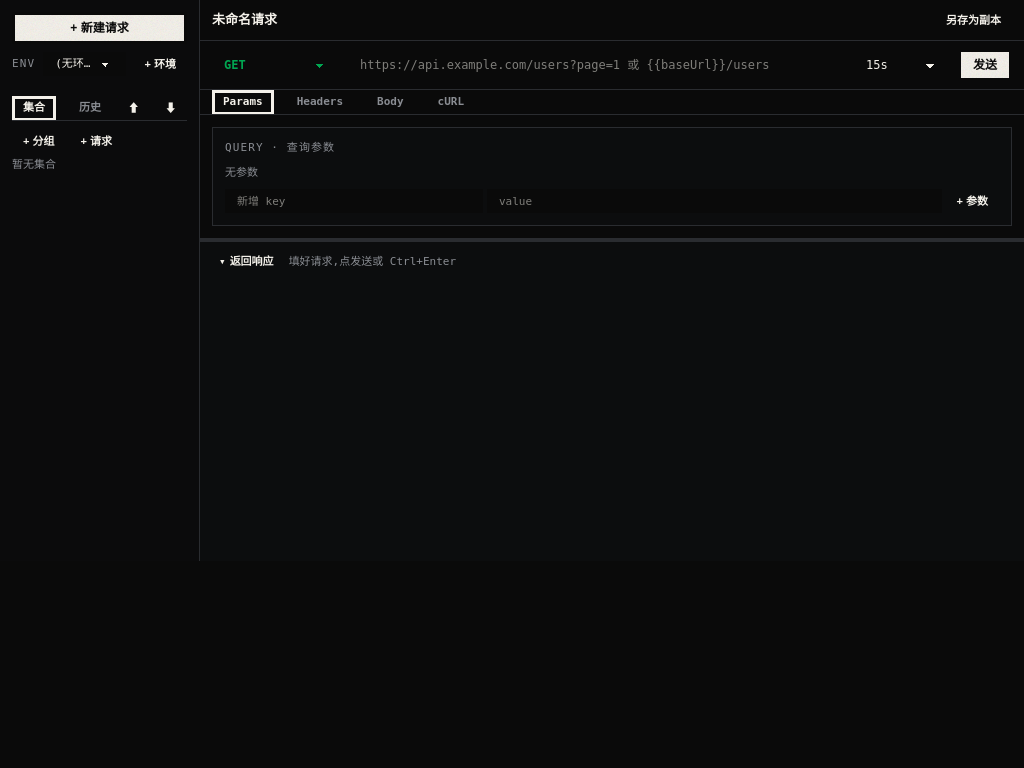
Test: 请求区页签 › 切到 cURL:粘贴框与「导出 cURL」「解析导入」都在该页签内
Click the tab with test id "request-tab-curl": {"x": 451, "y": 102} [427,90,475,114]
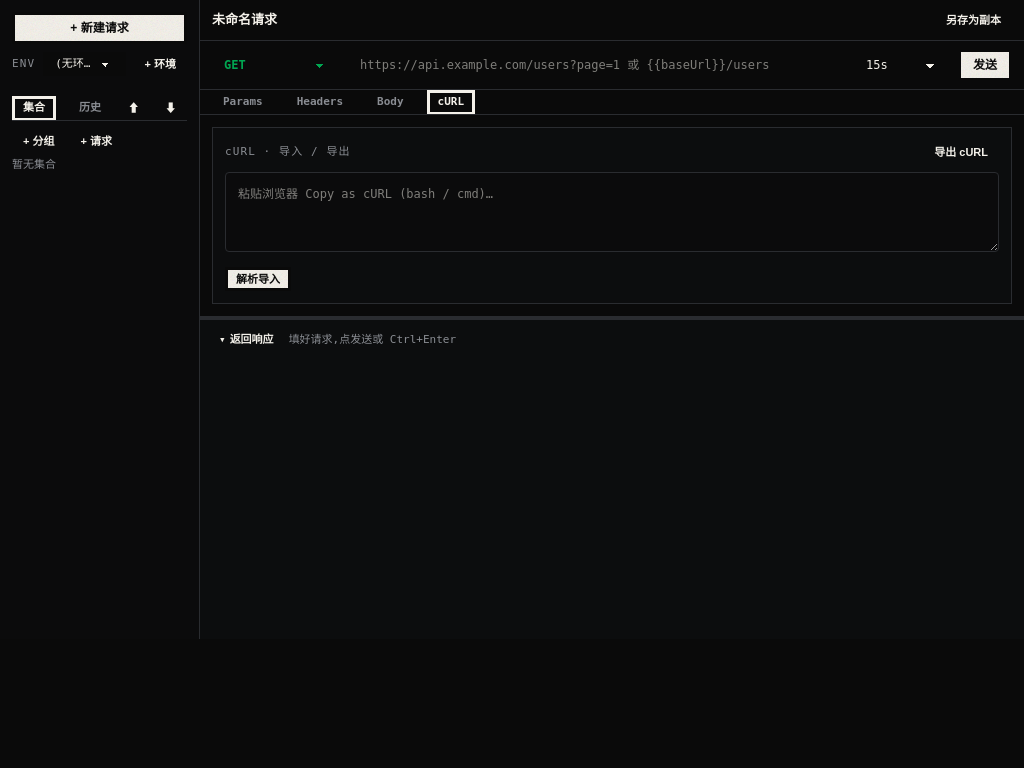
Expected: the text box with test id "curl-import" is shown, [225,172,999,252]
Expected: the button with test id "curl-export-btn" is shown, [923,140,999,164]
Expected: the button "解析导入" is shown, [225,267,291,291]
